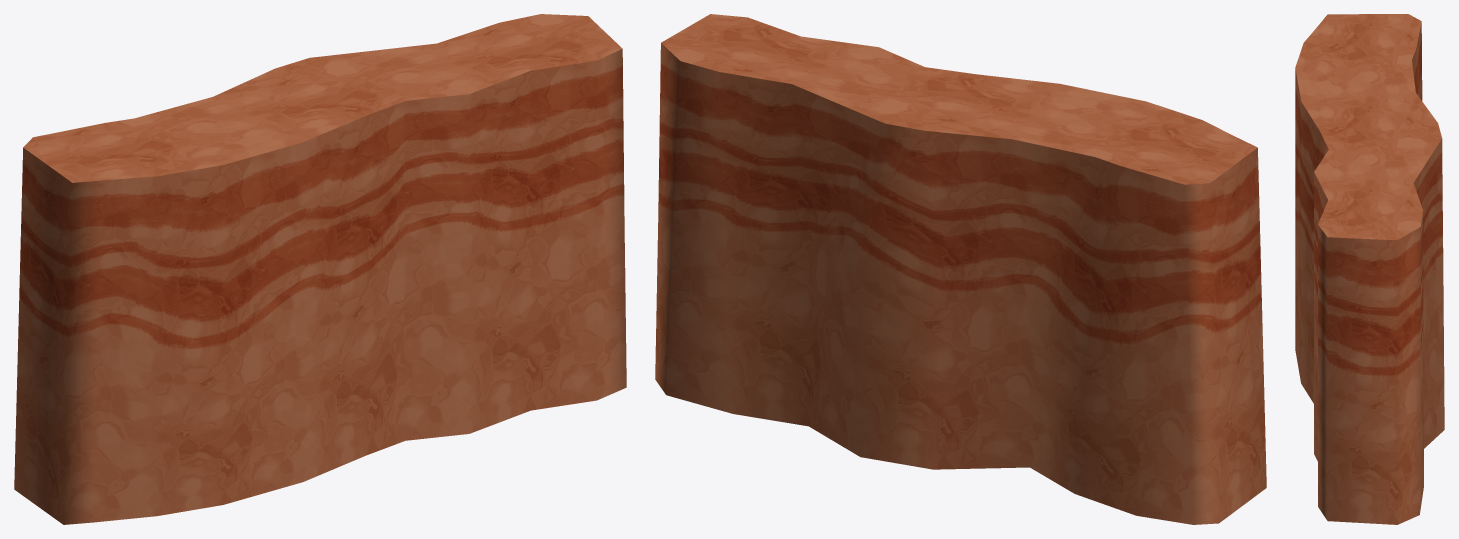
Rendered from Tallcliff05.fbx.
3 views of the same model, side by side, from view 1: azimuth 30°, elevation 25°; view 2: azimuth 150°, elevation 25°; view 3: azimuth 270°, elevation 25° (orthographic). The views are drawn at different scales.
Parts seen in each view (by area): view 1: Cliff Poly.001; view 2: Cliff Poly.001; view 3: Cliff Poly.001.
Boxes of the visible parts, left/top/right/bottom form: Cliff Poly.001: left=14, top=14, right=626, bottom=524; Cliff Poly.001: left=655, top=14, right=1266, bottom=524; Cliff Poly.001: left=1295, top=14, right=1444, bottom=524.
Bounding box in the file's own units: 3.92 × 2.22 × 1.07.
